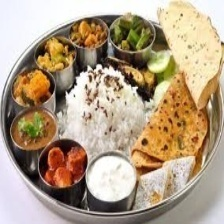roti: (129, 72, 202, 162)
